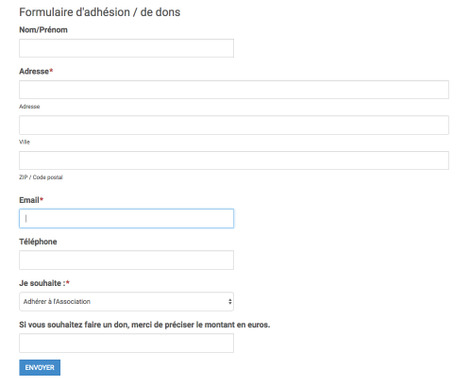_form_: (16, 1, 458, 380)
button: (18, 359, 61, 376)
field: (18, 78, 449, 101), (19, 113, 450, 136), (18, 149, 451, 171), (17, 331, 271, 355), (18, 206, 235, 231), (16, 248, 234, 272), (18, 37, 234, 59), (18, 290, 235, 311)
field_with_label: (17, 67, 451, 102), (18, 103, 451, 138), (17, 139, 453, 172), (16, 320, 273, 356), (16, 236, 235, 273), (16, 196, 236, 232), (16, 26, 235, 61), (16, 279, 236, 311)
